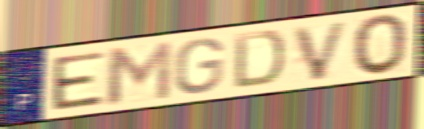D: (231, 29, 287, 92)
E: (50, 49, 107, 113)
G: (172, 37, 226, 96)
M: (104, 39, 175, 107)
O: (352, 12, 410, 78)
V: (290, 18, 352, 83)
